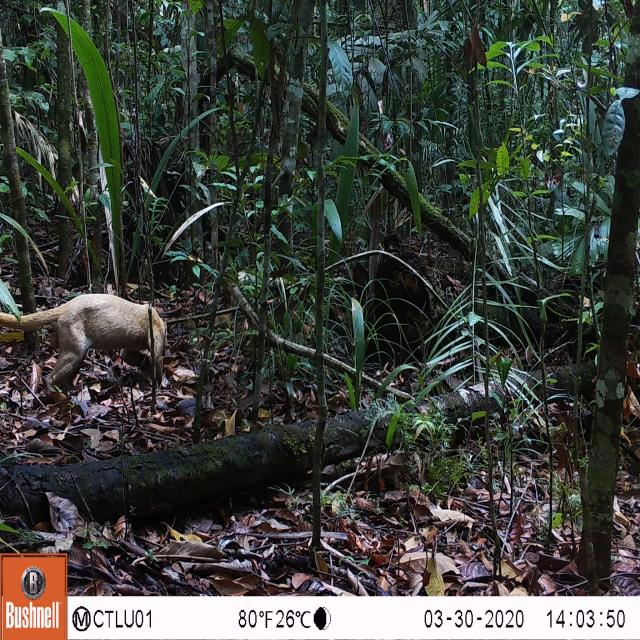Tayra: (0, 288, 169, 396)
